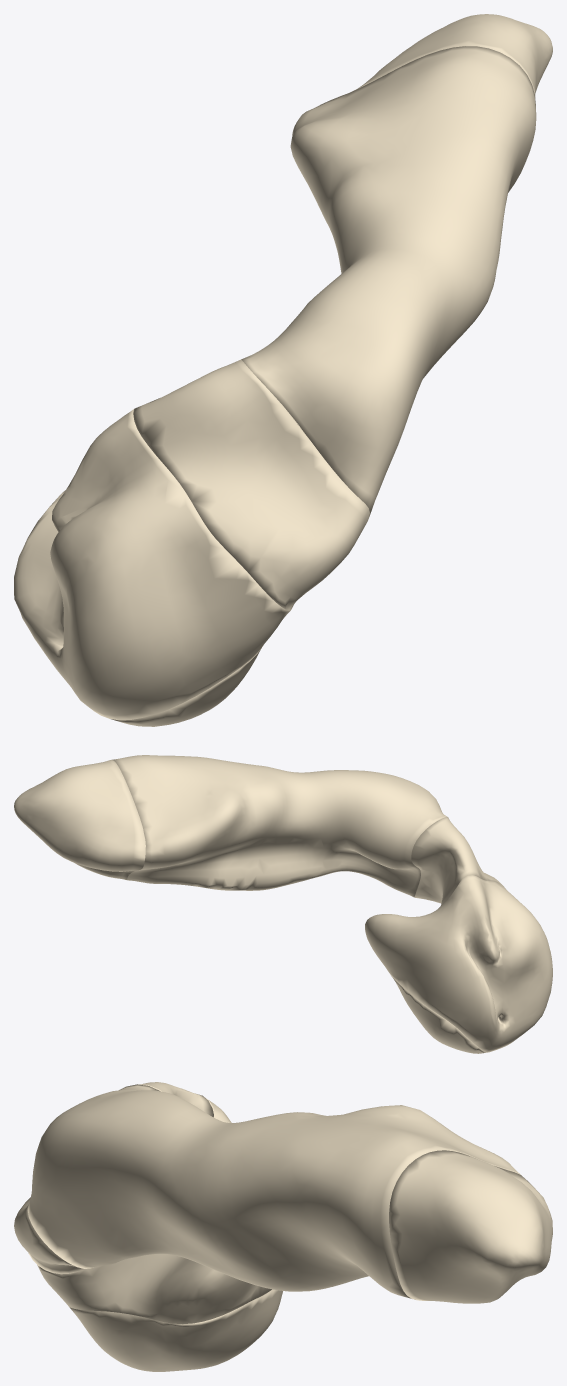
The model's file is vh_m_pancreas-80.glb.
The picture shows the model from 3 angles, top to bottom: view 1: azimuth 30°, elevation 25°; view 2: azimuth 150°, elevation 25°; view 3: azimuth 270°, elevation 25°; orthographic projection. The views are drawn at different scales.
Parts seen in each view (by area): view 1: VH_M_body_of_pancreas, VH_M_head_of_pancreas, VH_M_neck_of_pancreas, VH_M_tail_of_pancreas, VH_M_uncinate_process_of_the_pancreas; view 2: VH_M_body_of_pancreas, VH_M_head_of_pancreas, VH_M_tail_of_pancreas, VH_M_neck_of_pancreas, VH_M_uncinate_process_of_the_pancreas; view 3: VH_M_body_of_pancreas, VH_M_tail_of_pancreas, VH_M_head_of_pancreas, VH_M_uncinate_process_of_the_pancreas, VH_M_neck_of_pancreas.
Boxes of the visible parts, <box> form: VH_M_body_of_pancreas: <box>241,46,536,516</box>; VH_M_head_of_pancreas: <box>14,409,290,720</box>; VH_M_neck_of_pancreas: <box>133,359,369,610</box>; VH_M_tail_of_pancreas: <box>339,14,552,96</box>; VH_M_uncinate_process_of_the_pancreas: <box>111,646,262,726</box>; VH_M_body_of_pancreas: <box>112,755,447,897</box>; VH_M_head_of_pancreas: <box>365,875,552,1052</box>; VH_M_tail_of_pancreas: <box>14,759,145,879</box>; VH_M_neck_of_pancreas: <box>411,817,502,905</box>; VH_M_uncinate_process_of_the_pancreas: <box>391,976,485,1053</box>; VH_M_body_of_pancreas: <box>28,1084,520,1298</box>; VH_M_tail_of_pancreas: <box>389,1150,552,1303</box>; VH_M_head_of_pancreas: <box>37,1097,271,1324</box>; VH_M_uncinate_process_of_the_pancreas: <box>69,1289,282,1371</box>; VH_M_neck_of_pancreas: <box>14,1082,213,1274</box>.
Bounding box in the file's own units: 0.1115 × 0.072 × 0.0836.
